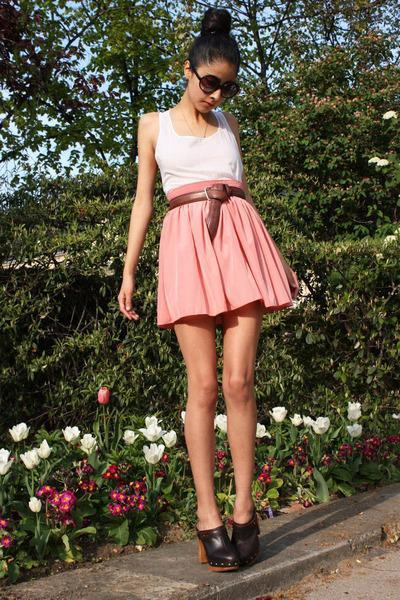shirt: (156, 109, 248, 203)
shoe: (191, 520, 261, 572)
skirt: (156, 180, 287, 323)
sunglass: (192, 66, 222, 95)
